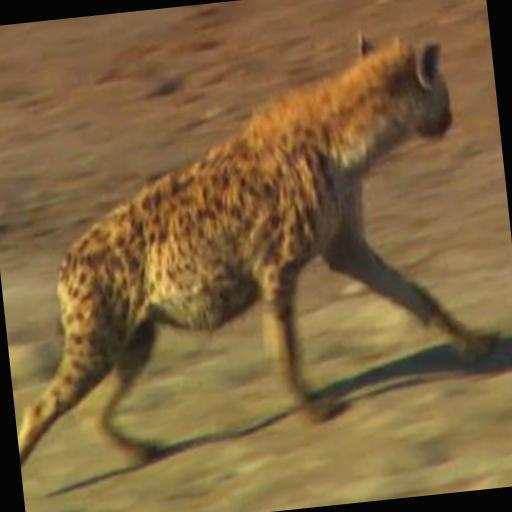hyenas: (0, 23, 512, 484)
